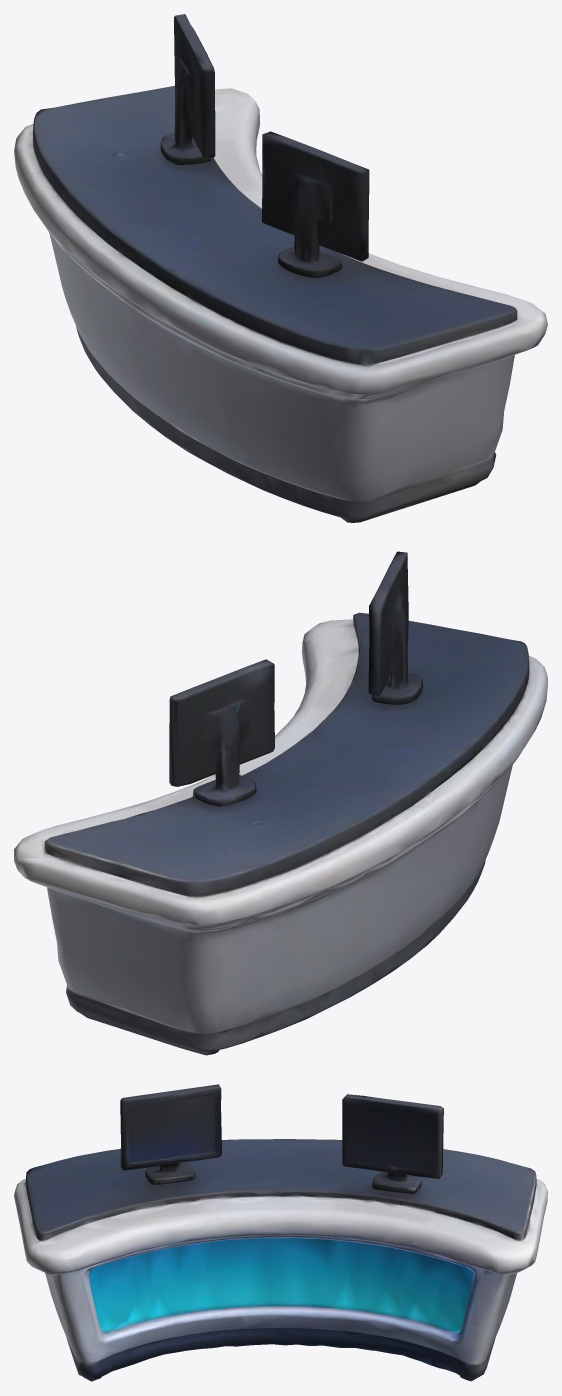
File: news-desk.glb
The picture shows the model from 3 angles, top to bottom: view 1: azimuth 30°, elevation 25°; view 2: azimuth 150°, elevation 25°; view 3: azimuth 270°, elevation 25°; orthographic projection. The views are drawn at different scales.
Visible parts, largest first — view 1: tripo_node_e8c5320c-7954-4647-8a92-017092685e6b; view 2: tripo_node_e8c5320c-7954-4647-8a92-017092685e6b; view 3: tripo_node_e8c5320c-7954-4647-8a92-017092685e6b.
Boxes of the visible parts, x1=… form: tripo_node_e8c5320c-7954-4647-8a92-017092685e6b: x1=14, y1=14, x2=547, y2=522; tripo_node_e8c5320c-7954-4647-8a92-017092685e6b: x1=14, y1=551, x2=547, y2=1055; tripo_node_e8c5320c-7954-4647-8a92-017092685e6b: x1=14, y1=1084, x2=547, y2=1381.
Bounding box in the file's own units: 0.4814 × 0.5125 × 1.
Materials: 1 (1 with a texture image).
